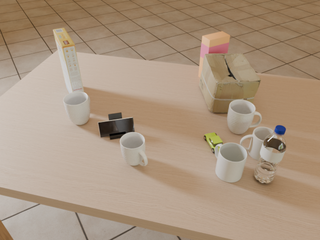bottle: (254, 125, 287, 184)
box: (199, 53, 261, 113), (53, 28, 84, 94), (199, 31, 230, 77)
cup: (214, 143, 247, 182), (227, 99, 262, 134), (240, 127, 273, 160), (120, 132, 148, 166), (63, 92, 90, 125)
phone: (98, 117, 135, 137)
toy_car: (204, 132, 223, 153)
